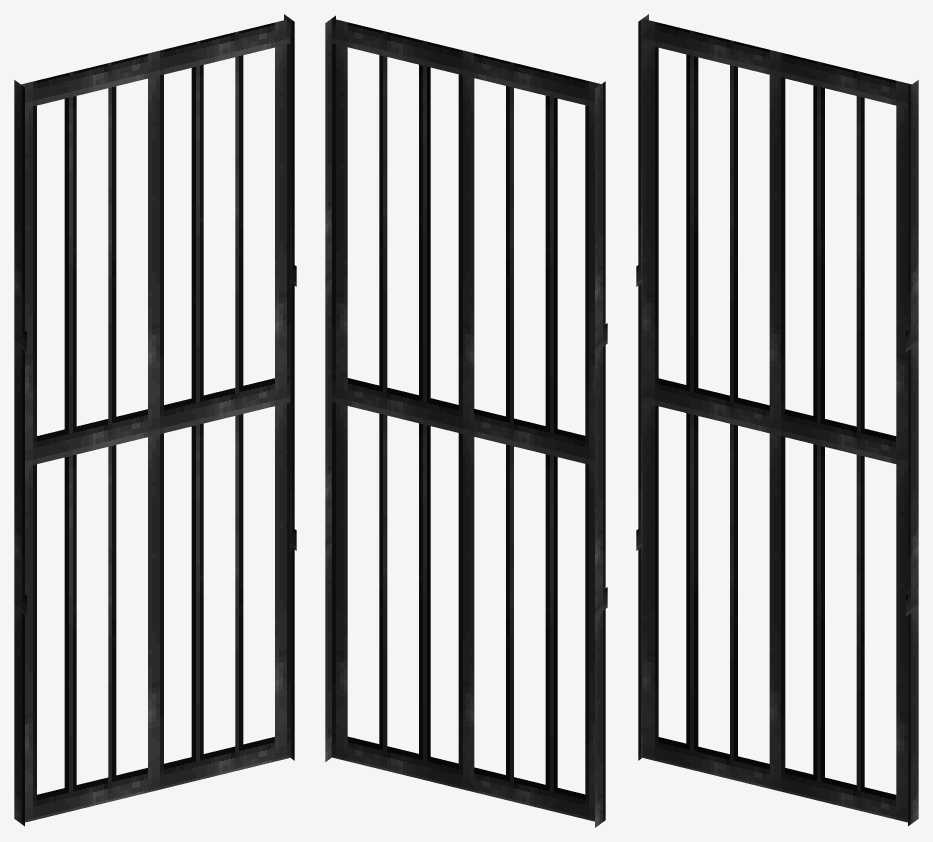
File: jail_door.glb
3 views of the same model, side by side, from view 1: azimuth 30°, elevation 25°; view 2: azimuth 150°, elevation 25°; view 3: azimuth 330°, elevation 25° (orthographic).
Parts seen in each view (by area): view 1: Object; view 2: Object; view 3: Object.
Part boxes in pixels (x1=…): Object: x1=14, y1=14, x2=296, y2=826; Object: x1=325, y1=15, x2=607, y2=827; Object: x1=636, y1=14, x2=918, y2=826.
Bounding box in the file's own units: 1.05 × 2.75 × 0.0839.
Materials: 1 (1 with a texture image).
